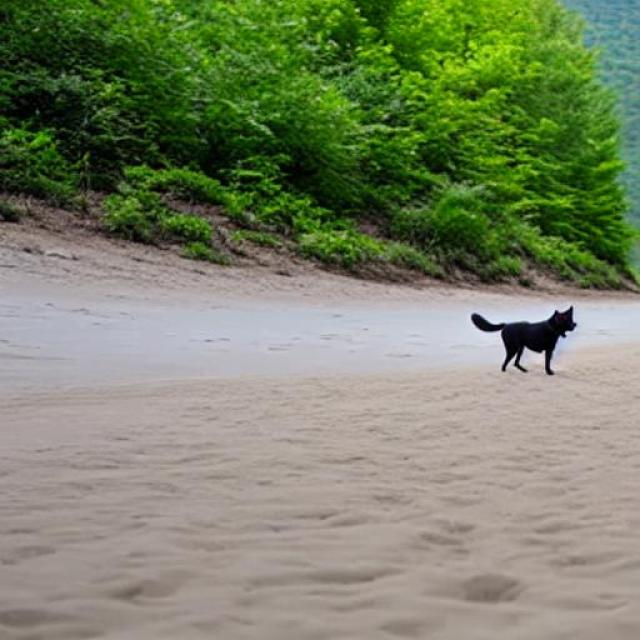Dog: (471, 305, 578, 377)
